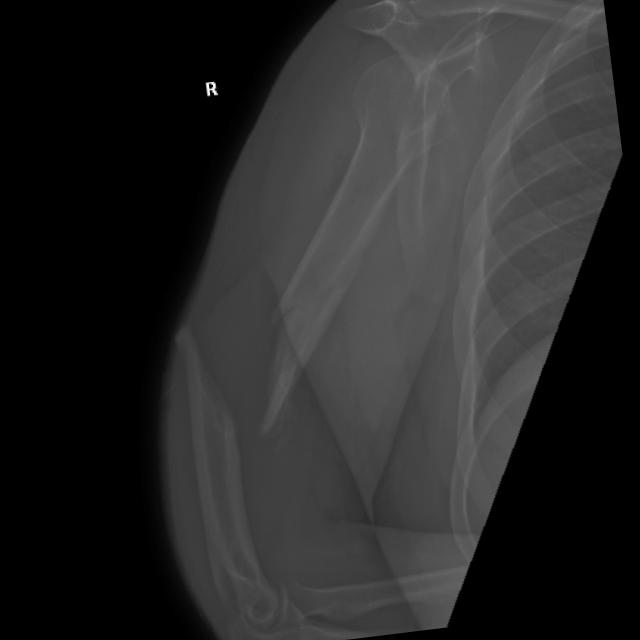humerus fracture: (56, 193, 449, 597)
